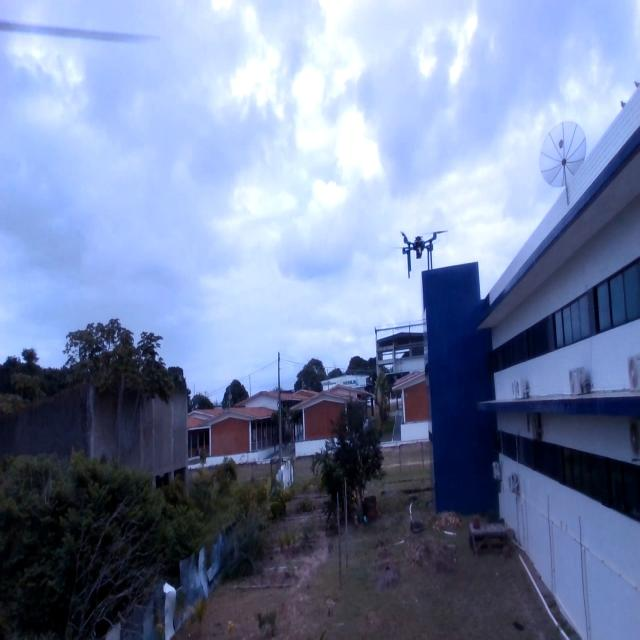-uav-: (393, 220, 449, 278)
